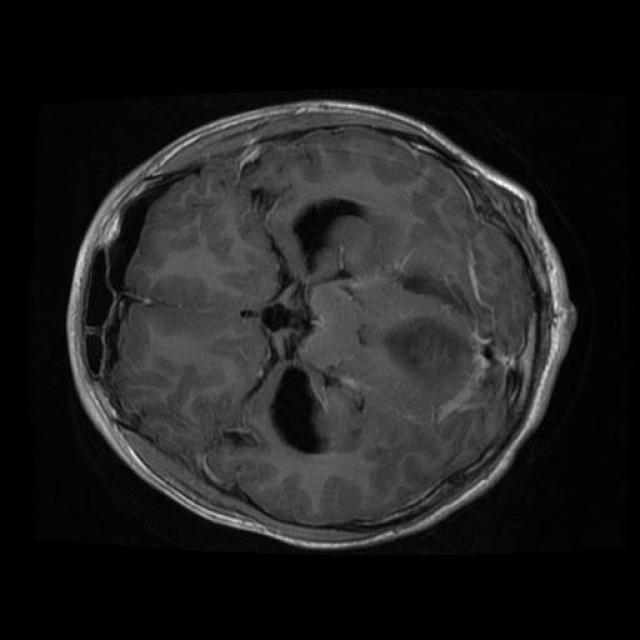Glioma: (384, 317, 476, 415), (403, 276, 466, 310)
